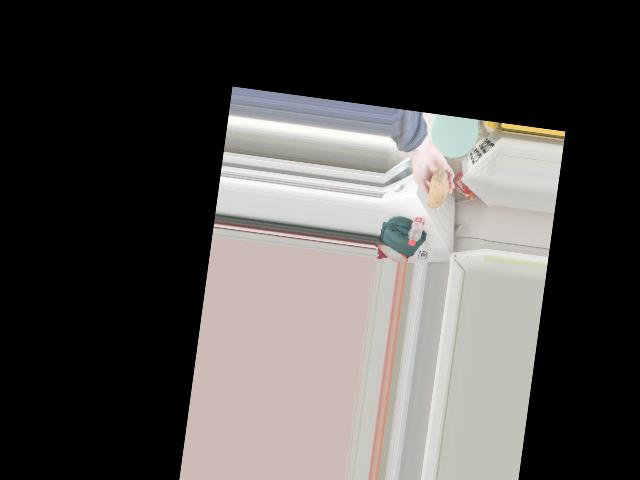sweet_potato: (425, 169, 449, 219)
